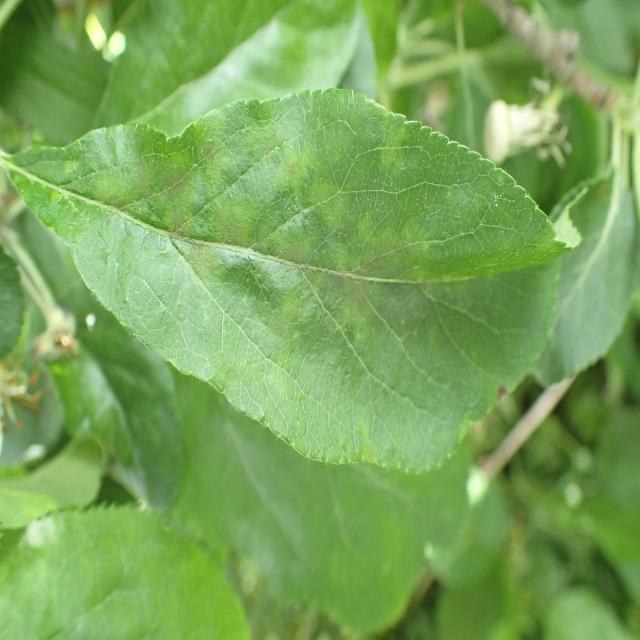scab: (45, 100, 542, 442)
